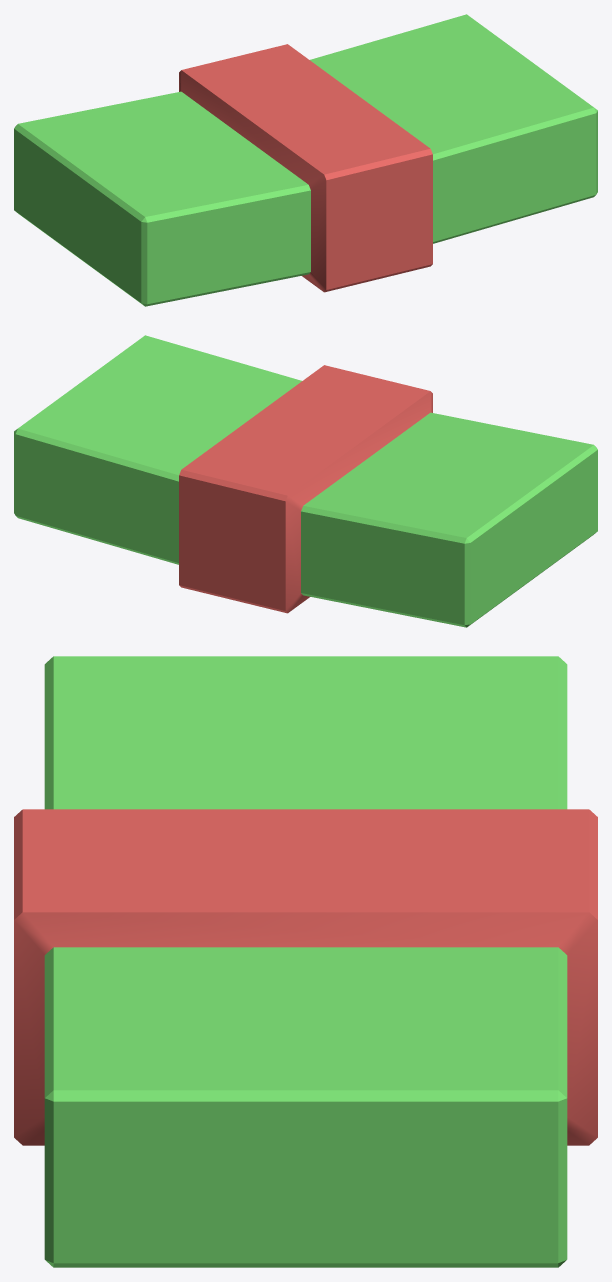
The model's file is MoneybillsSmallBlockout_RB.fbx.
The picture shows the model from 3 angles, top to bottom: view 1: azimuth 30°, elevation 25°; view 2: azimuth 150°, elevation 25°; view 3: azimuth 270°, elevation 25°; orthographic projection. The views are drawn at different scales.
Visible parts, largest first — view 1: MoneybillsSmallBlockout_RB; view 2: MoneybillsSmallBlockout_RB; view 3: MoneybillsSmallBlockout_RB.
Boxes of the visible parts, <box> form: MoneybillsSmallBlockout_RB: <box>14,14,597,306</box>; MoneybillsSmallBlockout_RB: <box>14,335,597,627</box>; MoneybillsSmallBlockout_RB: <box>14,656,597,1267</box>.
Bounding box in the file's own units: 120 × 29.59 × 67.08.
